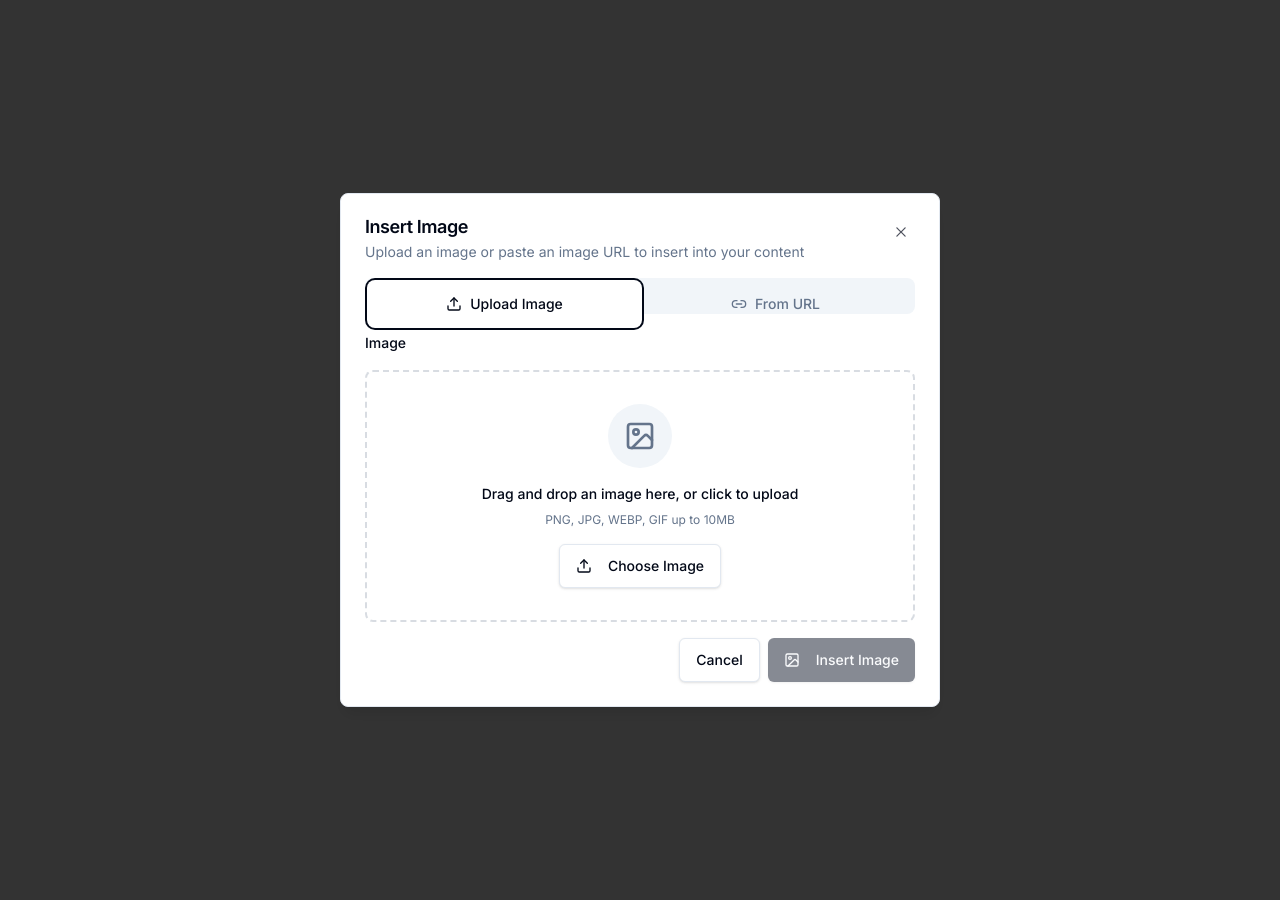
Test: ImageUploadDialog › switches to URL tab and shows URL input
Click the tab "From URL": (776, 304) x1=640 y1=282 x2=911 y2=326
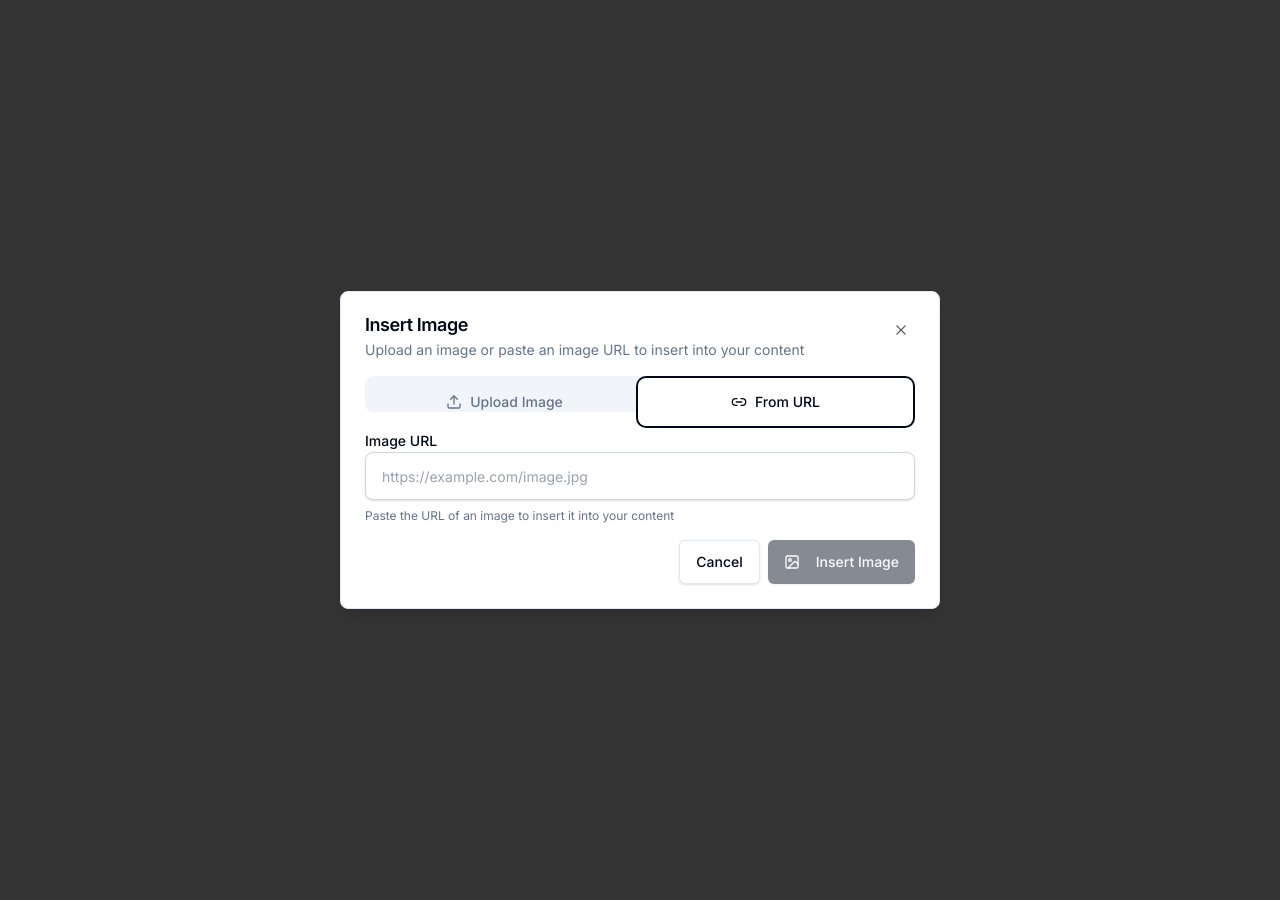
Now the field with placeholder "https://example.com/image.jpg" is shown, box x1=365 y1=452 x2=915 y2=500
Now the text "Paste the URL of an image to insert it into your content" is shown, box x1=365 y1=508 x2=674 y2=523
